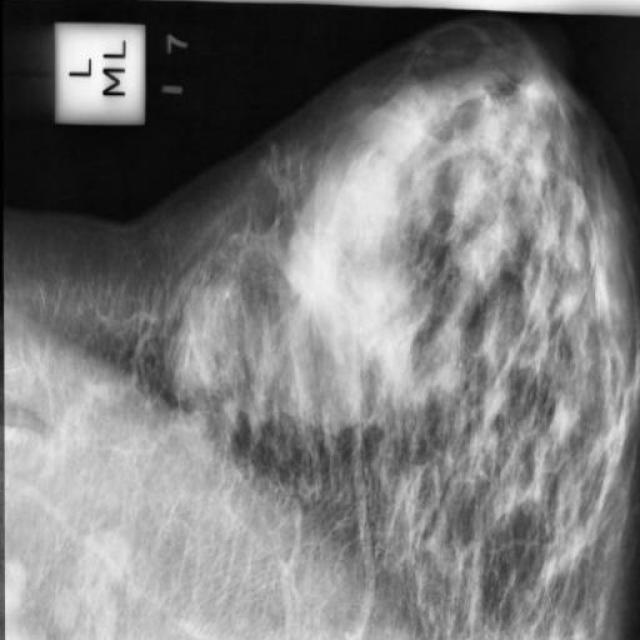cancer: (276, 257, 338, 342)
